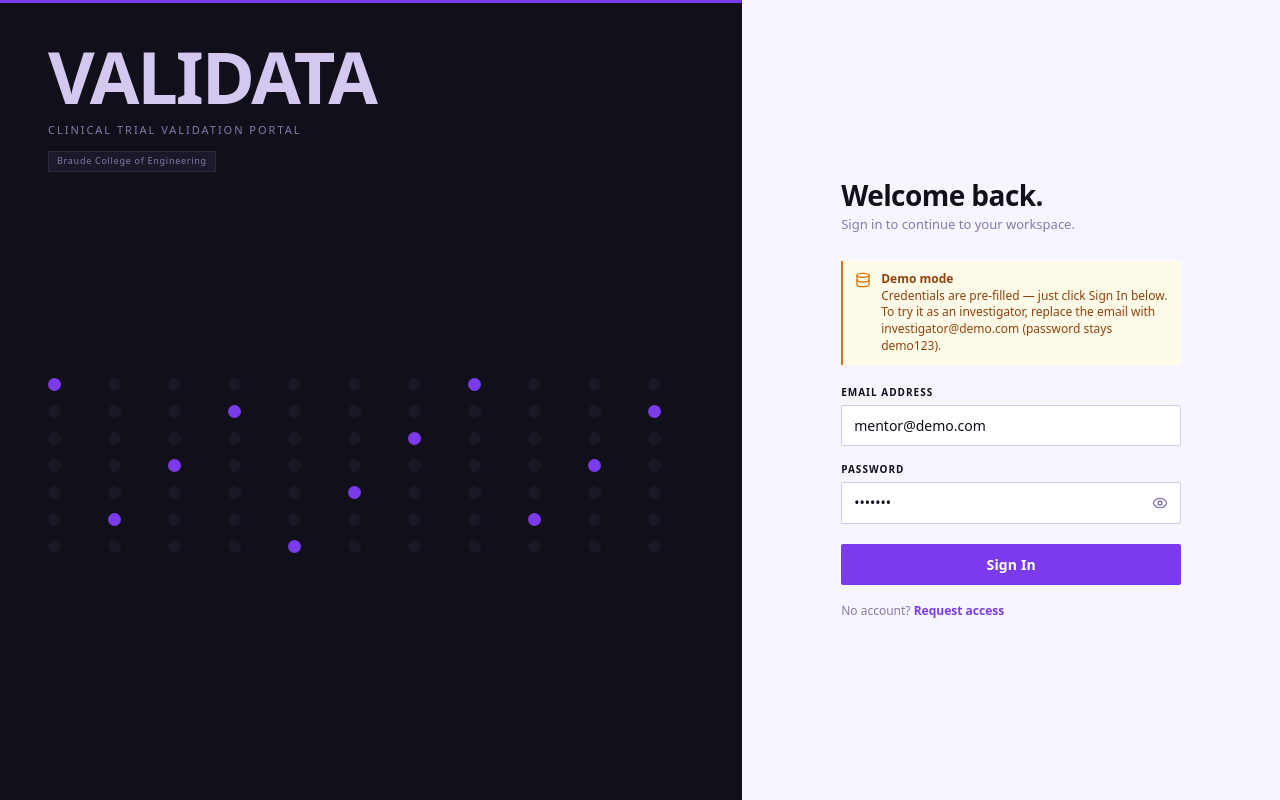
Test: LoginControl (demo-mode fallback, since Supabase isn't configured in tests) › shows an error message and re-enables the form when demo login fails
Click the button "Sign In" at (1011, 565), box [841,544,1181,586]
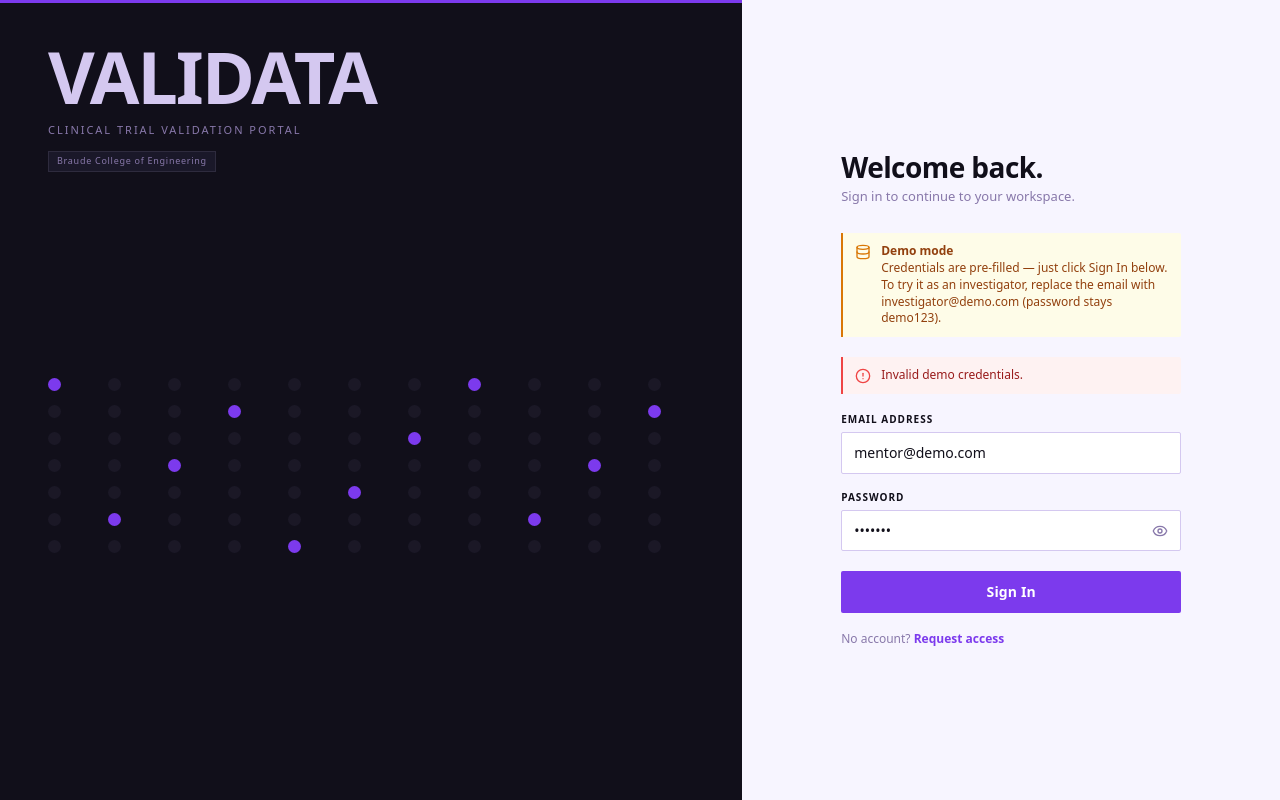
Expected: the text "Invalid demo credentials." is shown, [881,367,1023,384]
